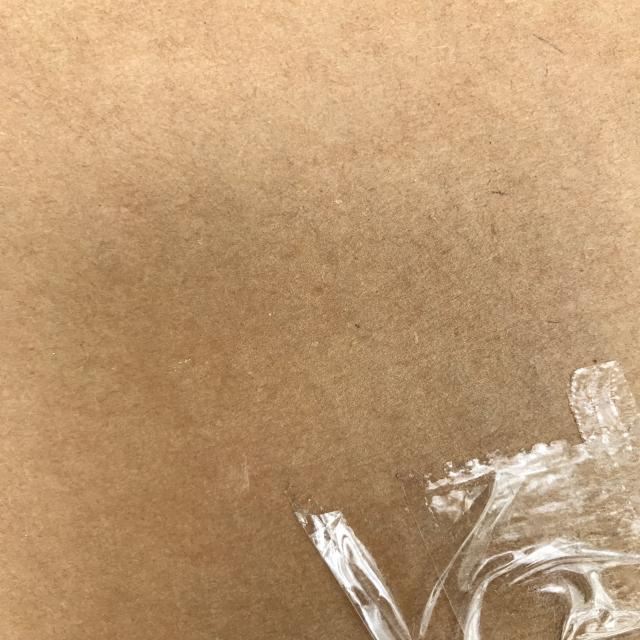cardboard: (0, 0, 640, 639), (1, 0, 638, 639)
